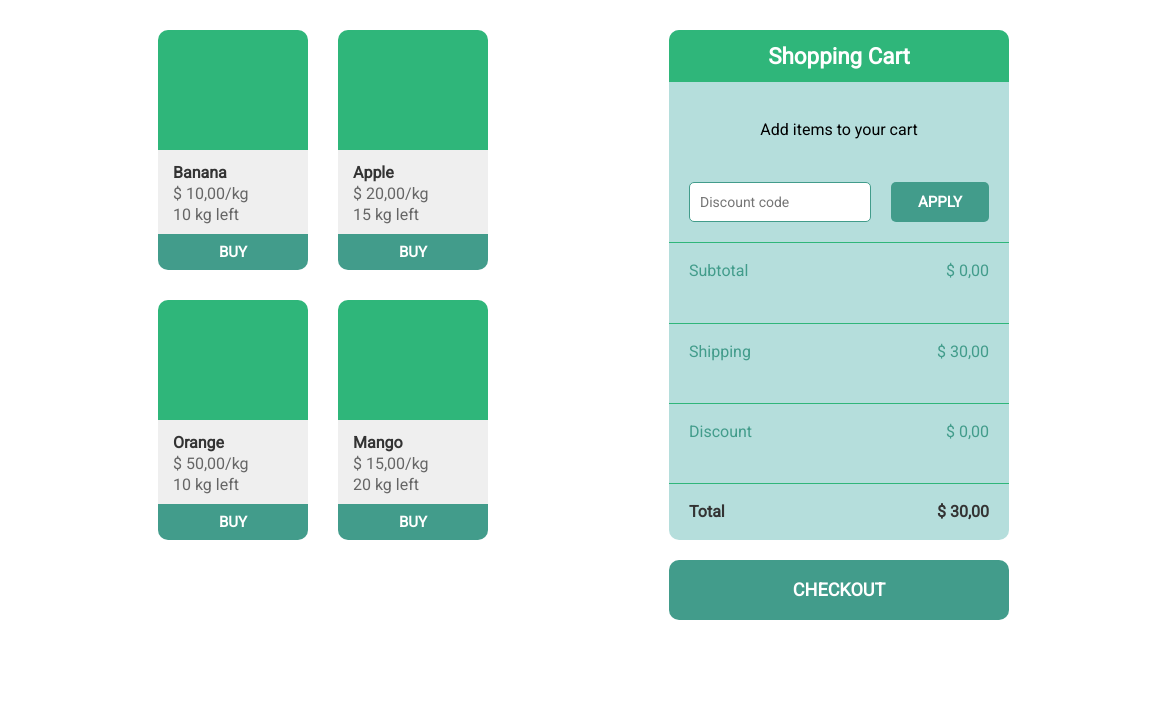
Testing shipping values › Should do not checkout with empty cart
(page scrolled)
Click the element with class "checkoutBtn" at (839, 590), box [669,560,1009,620]
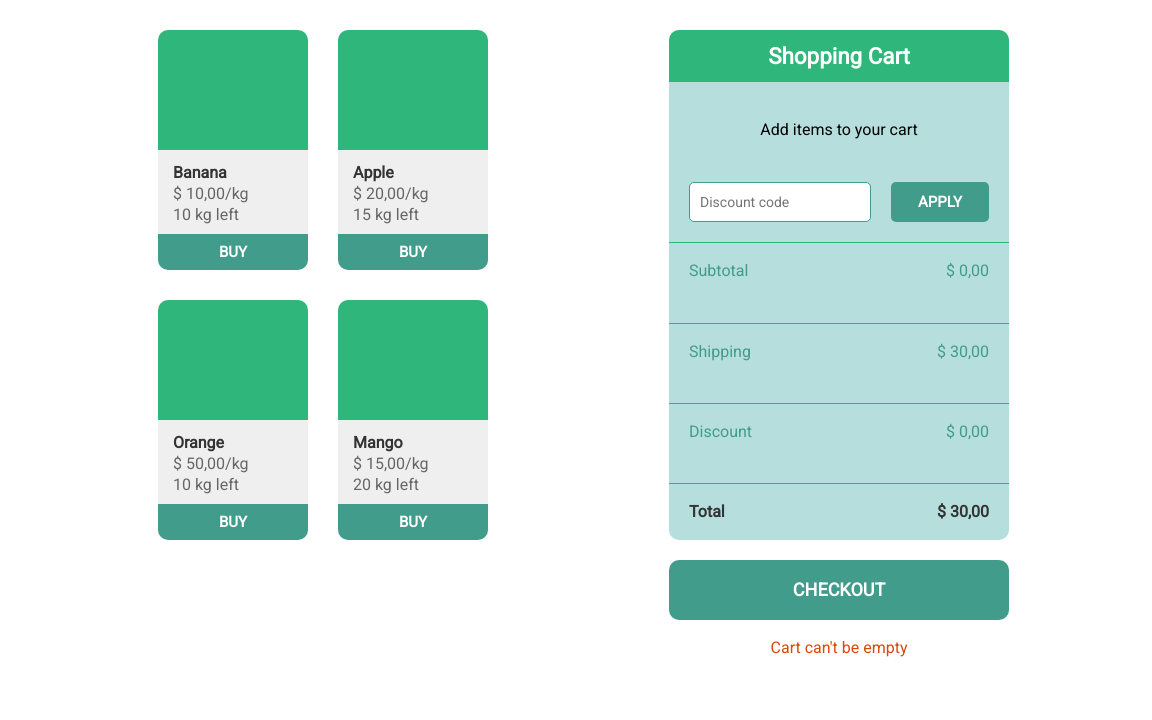
Expected: the text "Cart can't be empty" is shown, [770,638,908,657]
